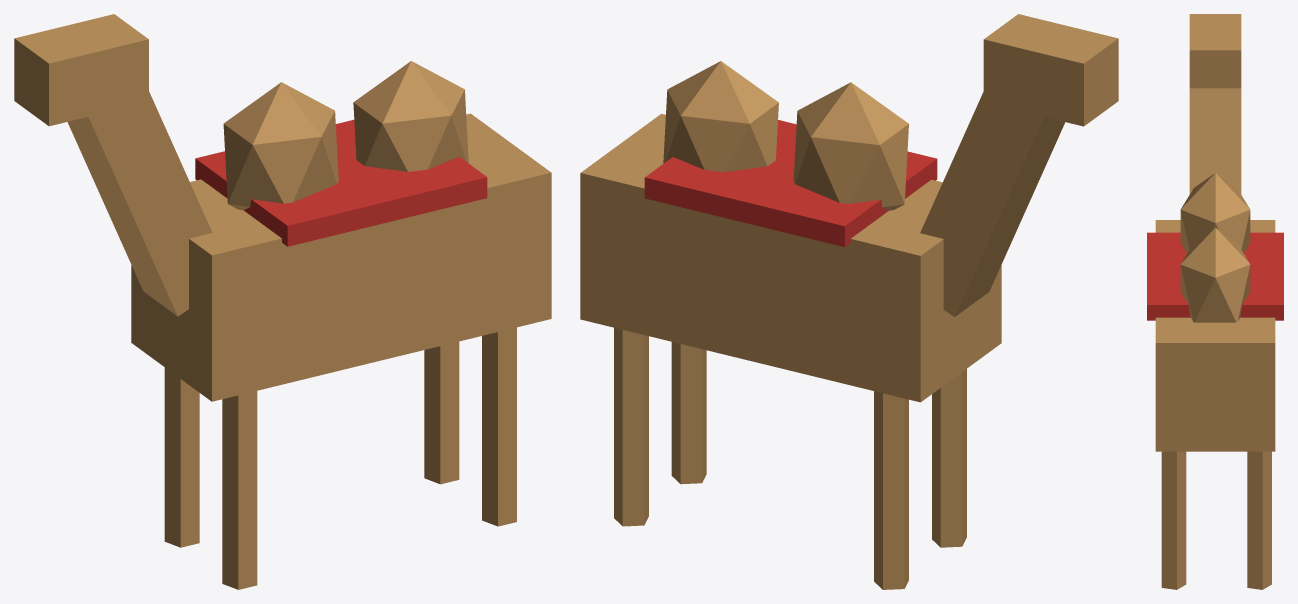
The model's file is camel.fbx.
3 views of the same model, side by side, from view 1: azimuth 30°, elevation 25°; view 2: azimuth 150°, elevation 25°; view 3: azimuth 270°, elevation 25° (orthographic). The views are drawn at different scales.
Parts seen in each view (by area): view 1: camel; view 2: camel; view 3: camel.
Part boxes in pixels (bbox=[...]): camel: bbox=[14, 14, 551, 589]; camel: bbox=[580, 14, 1118, 589]; camel: bbox=[1147, 14, 1283, 589].
Bounding box in the file's own units: 2.4 × 2.65 × 0.8.
